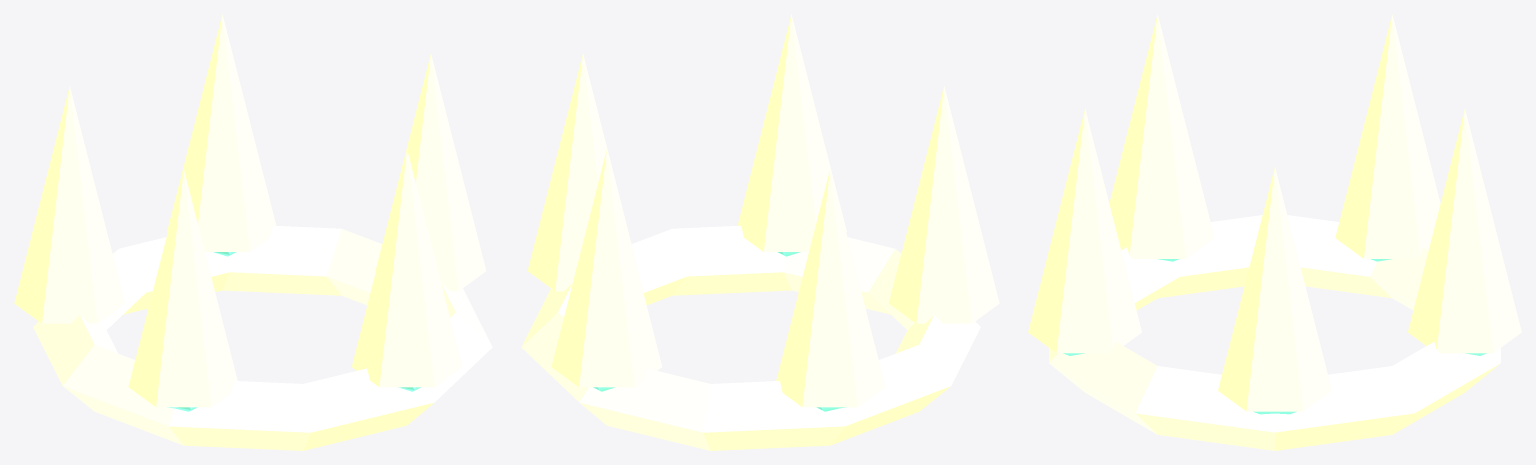
The model's file is Reliquia_Coroa.fbx.
3 renders of one model, left to right at view 1: azimuth 30°, elevation 25°; view 2: azimuth 150°, elevation 25°; view 3: azimuth 270°, elevation 25°, orthographic. The views are drawn at different scales.
Parts seen in each view (by area): view 1: Reliquia_Coroa; view 2: Reliquia_Coroa; view 3: Reliquia_Coroa.
Boxes of the visible parts, x1=… form: Reliquia_Coroa: x1=14, y1=14, x2=492, y2=450; Reliquia_Coroa: x1=521, y1=14, x2=999, y2=450; Reliquia_Coroa: x1=1028, y1=14, x2=1521, y2=450.
Bounding box in the file's own units: 25.6 × 16.5 × 25.97.
